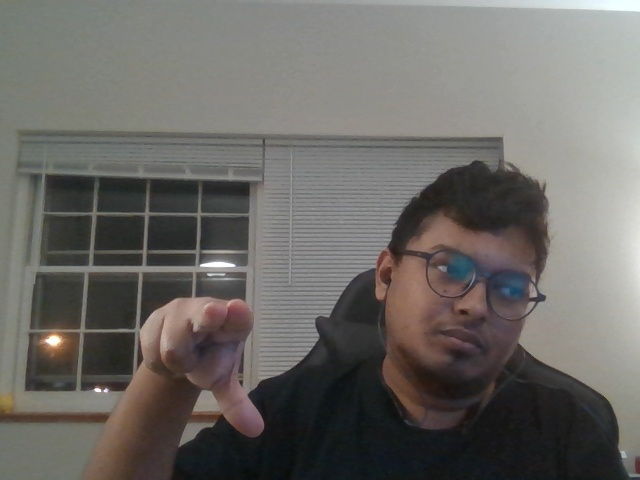no: (129, 284, 289, 447)
